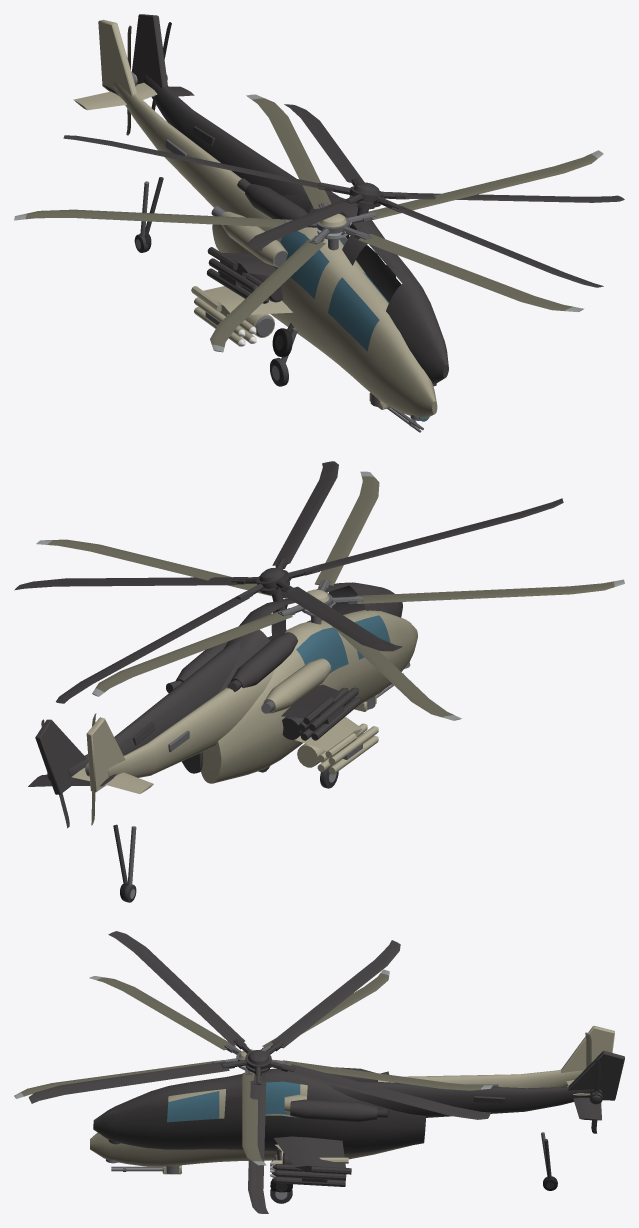
Rendered from gunship__t129_atak.glb.
3 views of the same model, one above another, from view 1: azimuth 30°, elevation 25°; view 2: azimuth 150°, elevation 25°; view 3: azimuth 270°, elevation 25° (orthographic). The views are drawn at different scales.
Visible parts, largest first — view 1: Wreck, Fuselage_Mesh, Rotor_Main_Mesh, Stub_Wings_Stores_Mesh, Engines_Mesh, Landing_Gear_Mesh; view 2: Wreck, Fuselage_Mesh, Rotor_Main_Mesh, Stub_Wings_Stores_Mesh, Engines_Mesh, Landing_Gear_Mesh; view 3: Wreck, Fuselage_Mesh, Rotor_Main_Mesh, Landing_Gear_Mesh.
Part boxes in pixels (box(x1,y1,x2,y2)): Wreck: box(63, 14, 624, 386); Fuselage_Mesh: box(73, 19, 437, 421); Rotor_Main_Mesh: box(14, 94, 603, 352); Stub_Wings_Stores_Mesh: box(191, 286, 292, 346); Engines_Mesh: box(211, 206, 347, 267); Landing_Gear_Mesh: box(134, 181, 297, 386); Wreck: box(14, 461, 563, 900); Fuselage_Mesh: box(71, 610, 417, 793); Rotor_Main_Mesh: box(36, 471, 624, 720); Stub_Wings_Stores_Mesh: box(294, 716, 378, 774); Engines_Mesh: box(261, 658, 331, 713); Landing_Gear_Mesh: box(123, 765, 338, 902); Wreck: box(28, 931, 624, 1213); Fuselage_Mesh: box(90, 1025, 614, 1166); Rotor_Main_Mesh: box(14, 969, 492, 1165); Landing_Gear_Mesh: box(270, 1132, 555, 1203).
Size of what is drawn, in the model's own units: 11.46 by 5.1 by 14.51.
